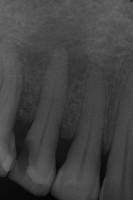Furcation Involvement: (18, 7, 89, 88)
